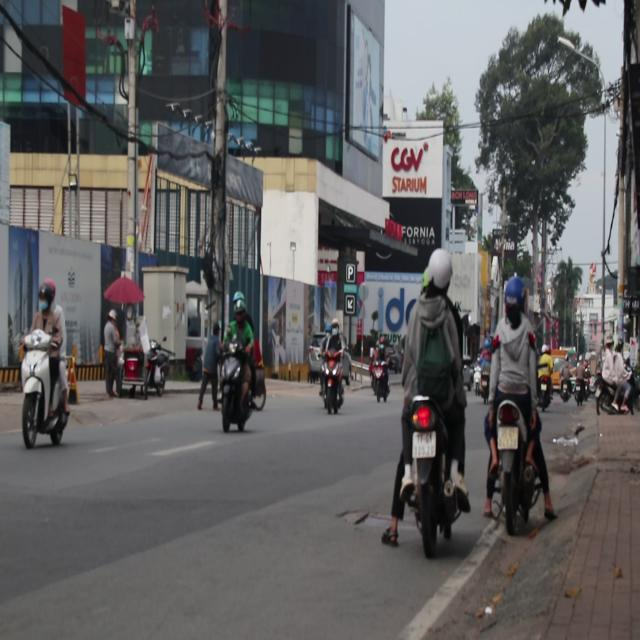motorbike: (389, 392, 467, 558), (490, 388, 550, 529), (19, 330, 72, 450), (218, 342, 262, 431), (320, 342, 348, 415), (140, 342, 172, 398), (595, 374, 633, 416), (370, 357, 390, 403), (573, 378, 592, 408), (539, 372, 553, 406)
